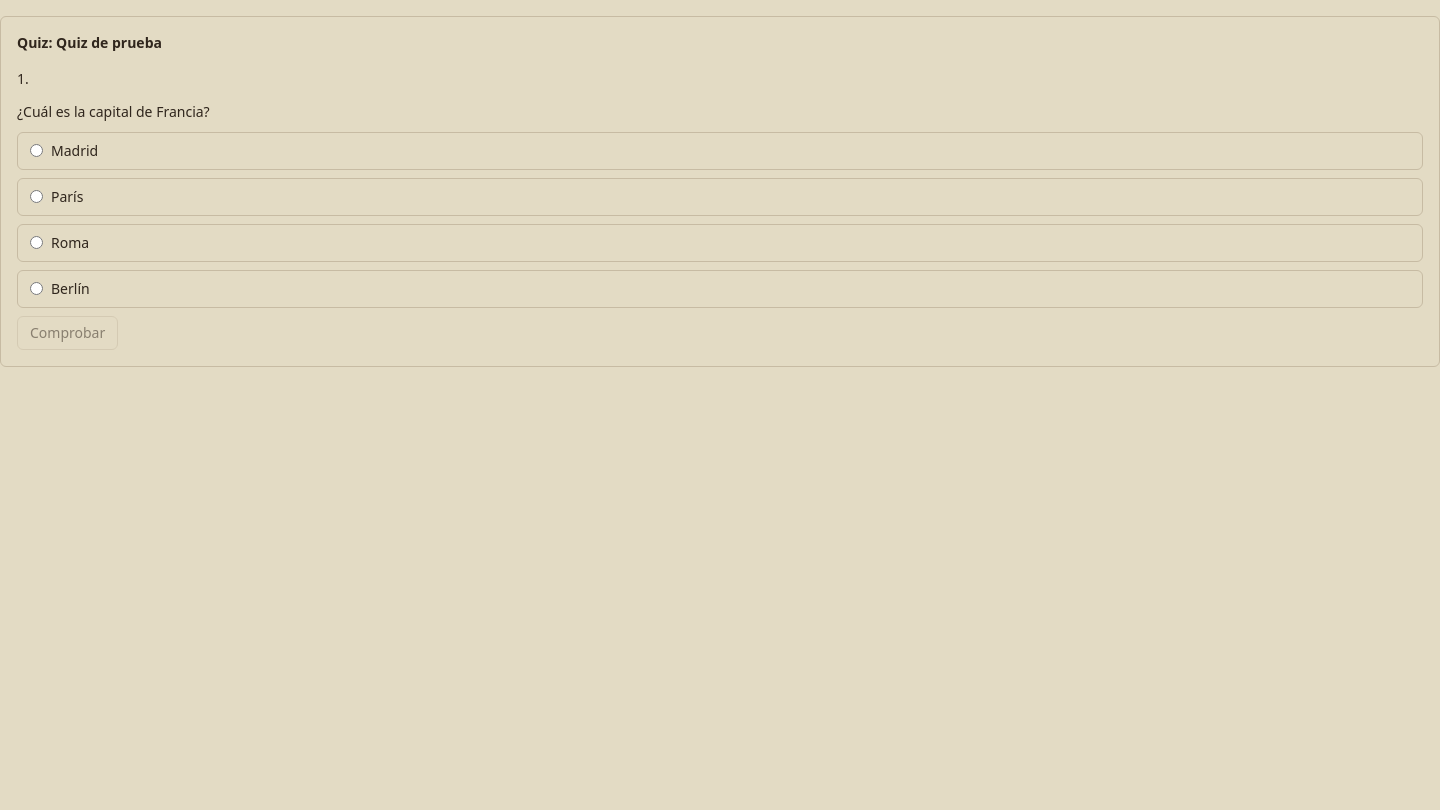
Scenario: QuizCard — CA-11: corrección inmediata + explicación (tipo 'single') › responder CORRECTAMENTE indica 'Correcta' y muestra la explicación
The image size is (1440, 810).
Click the radio button labelled "París" at (36, 197), box 30,190 -> 43,203
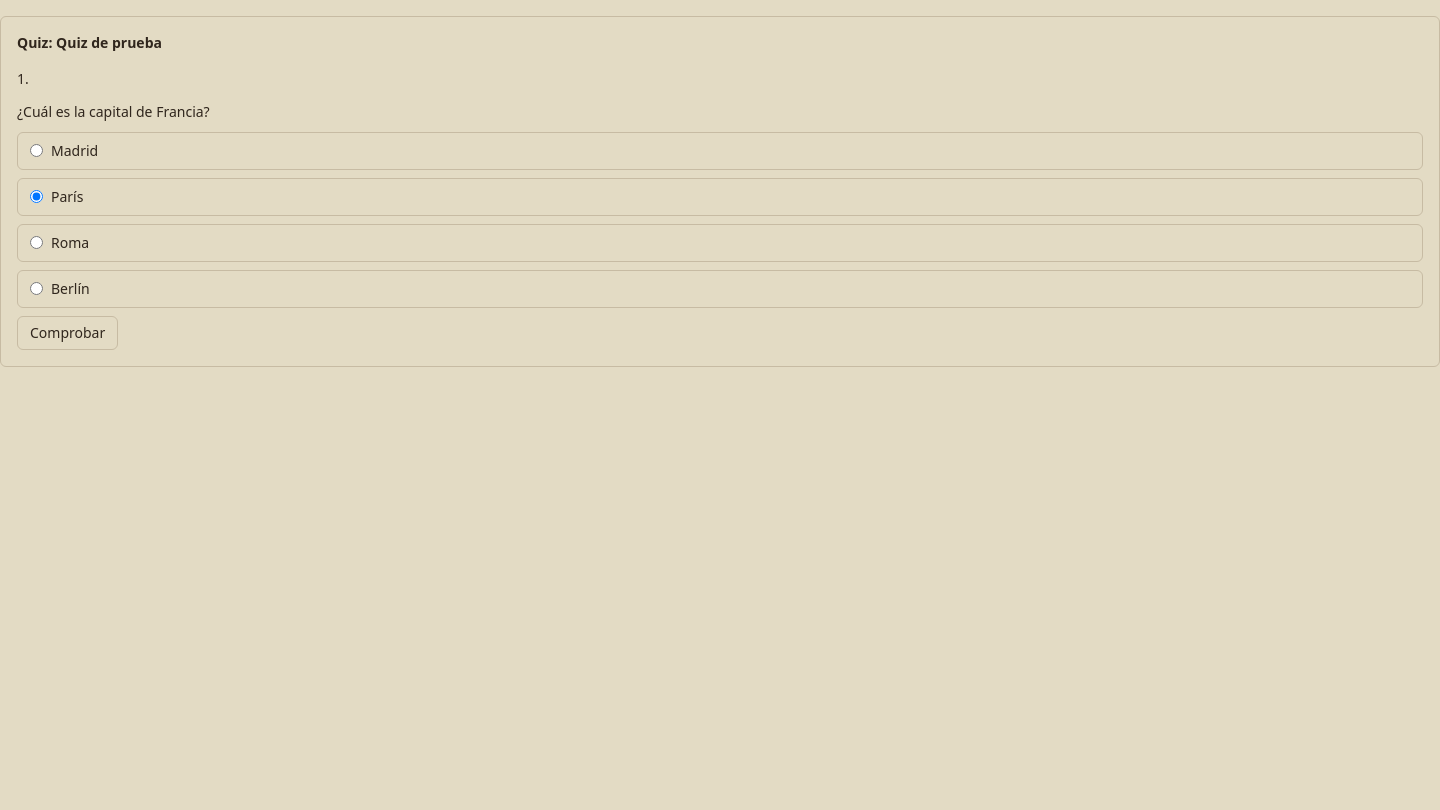
Click the button "Comprobar" at (68, 333), box 17,316 -> 118,350
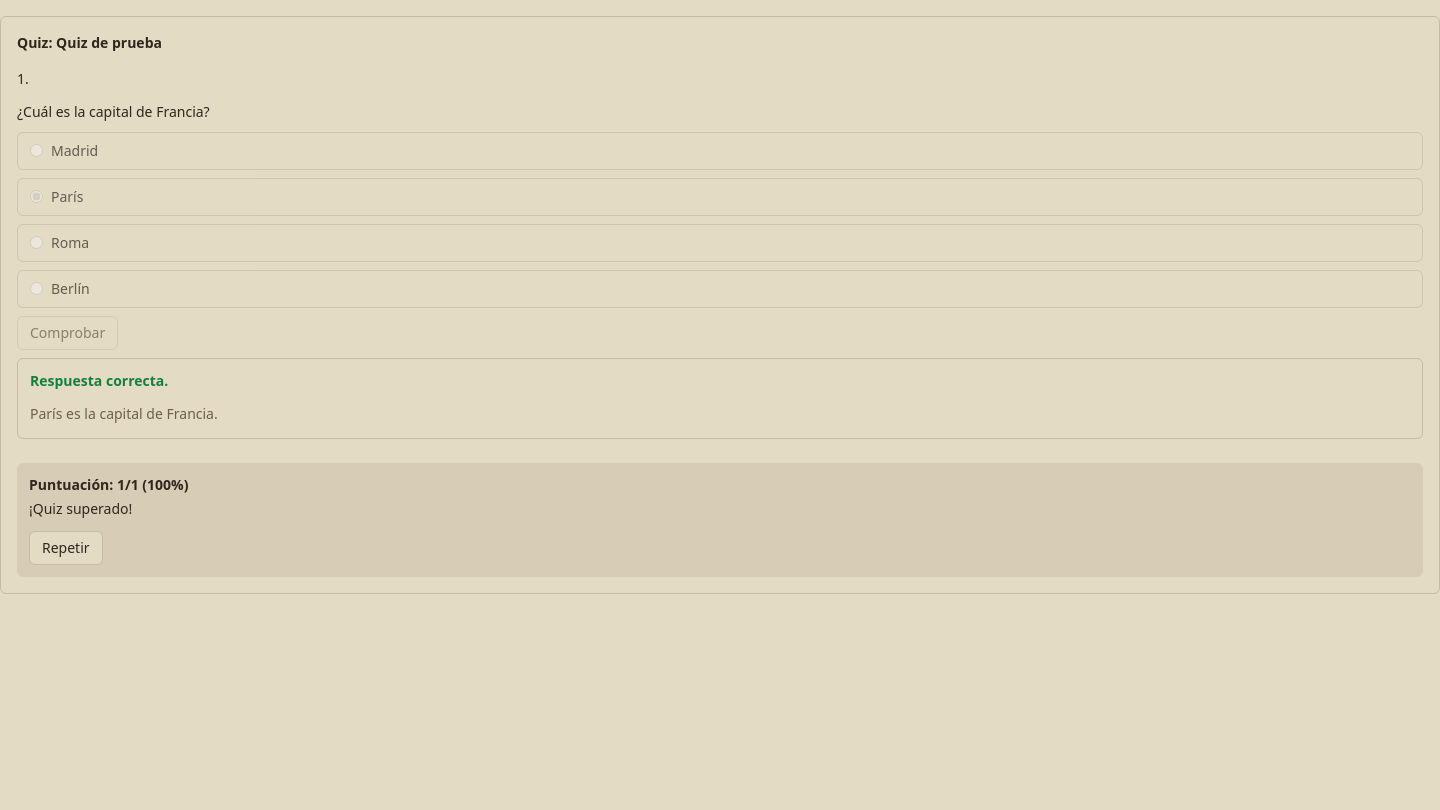
Expected: the text "Respuesta correcta." is shown, 30,371 -> 168,390
Expected: the text "París es la capital de Francia." is shown, 30,404 -> 218,423
